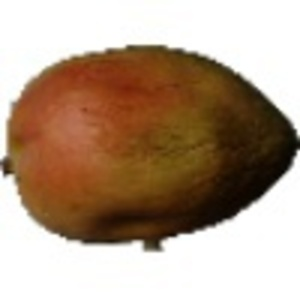mamão: (6, 37, 296, 244)
